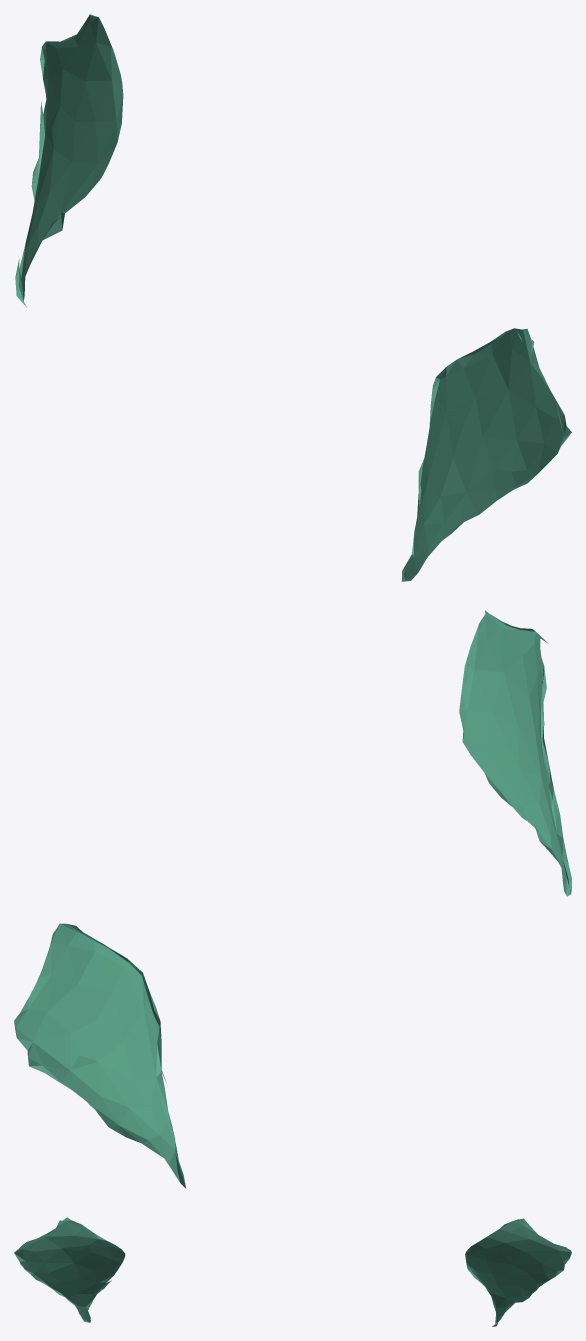
3 views of the same model, one above another, from view 1: azimuth 30°, elevation 25°; view 2: azimuth 150°, elevation 25°; view 3: azimuth 270°, elevation 25° (orthographic). The views are drawn at different scales.
Parts seen in each view (by area): view 1: 488.obj; view 2: 488.obj; view 3: 488.obj.
Part boxes in pixels (<box>): 488.obj: <box>15,14,571,581</box>; 488.obj: <box>14,610,571,1188</box>; 488.obj: <box>14,1217,571,1326</box>.
Size of the model in its own units: 441 by 966 by 3640.
